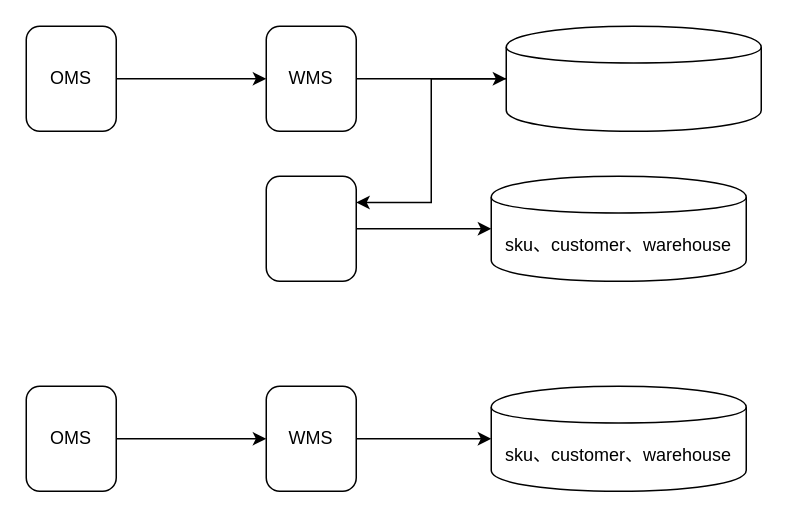
Some shapes in this 788 by 518 pixel diagram are drawn without their labels. The shapes that lost their labels are listed below. From the top down, each one's centre as x and y in pixels, then its label:
At (633,78): "同步临时表".
At (310,228): "定时任务".
